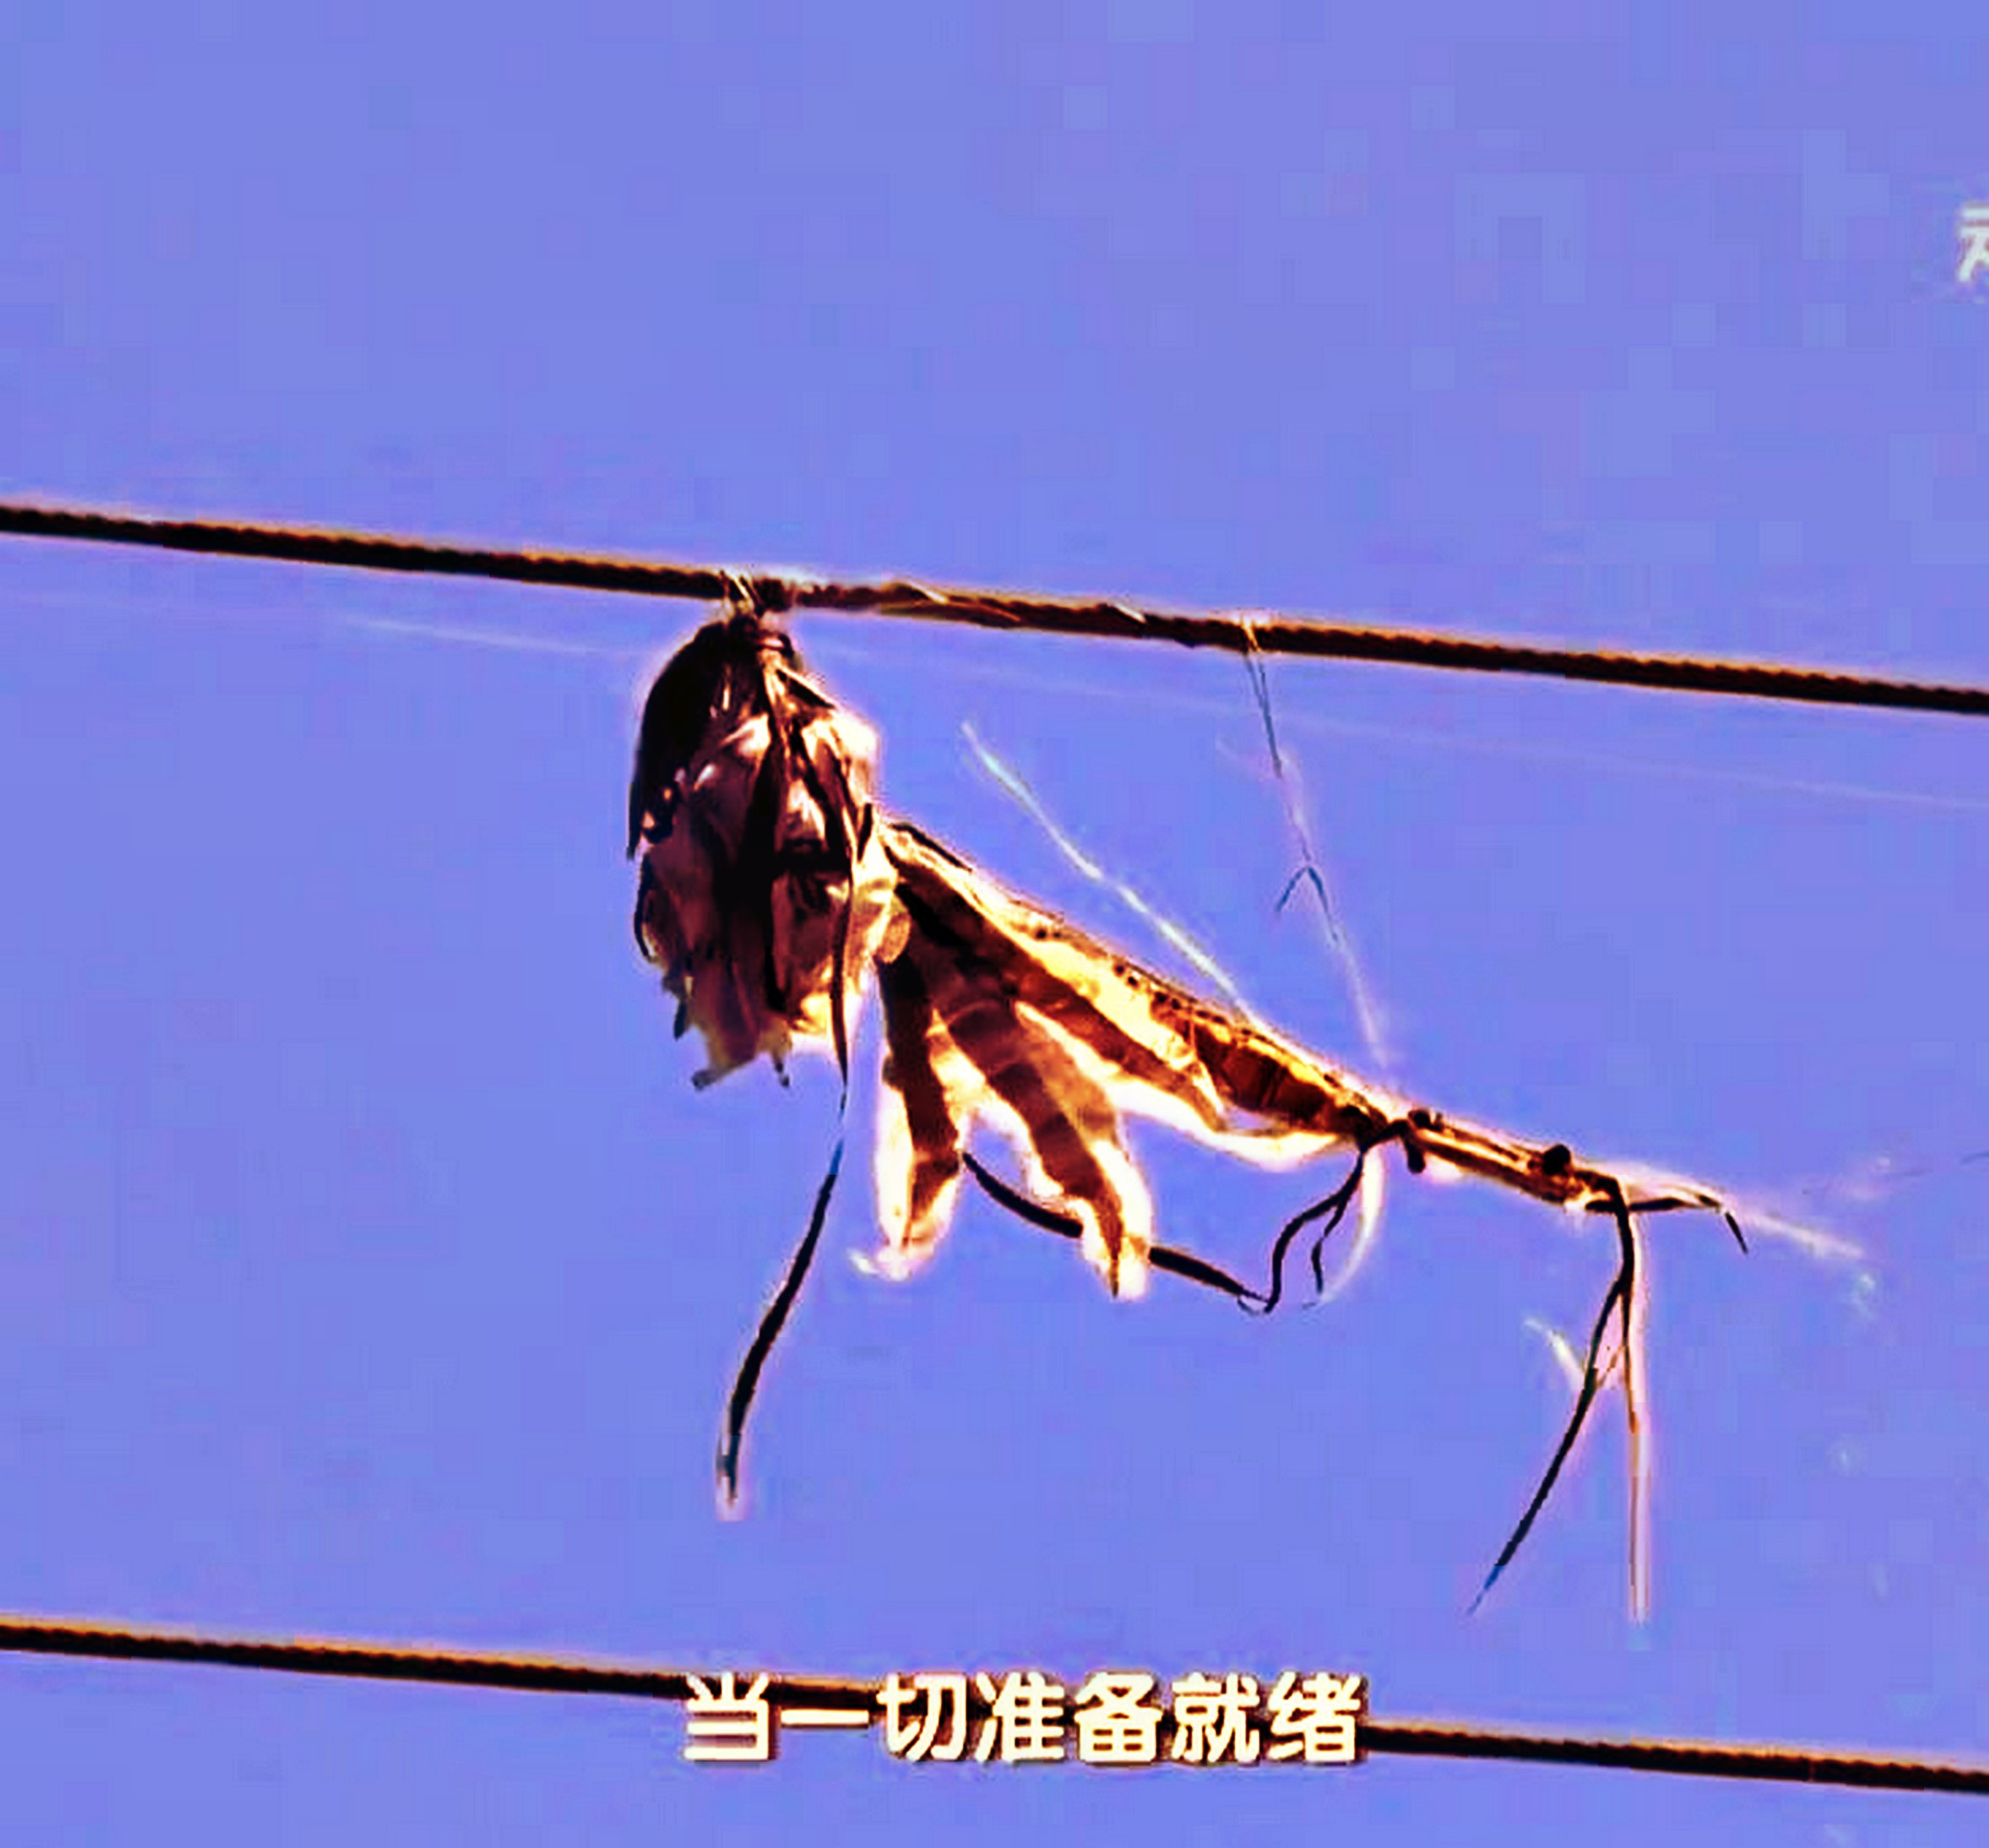wire foreign body: (495, 474, 1713, 1389)
